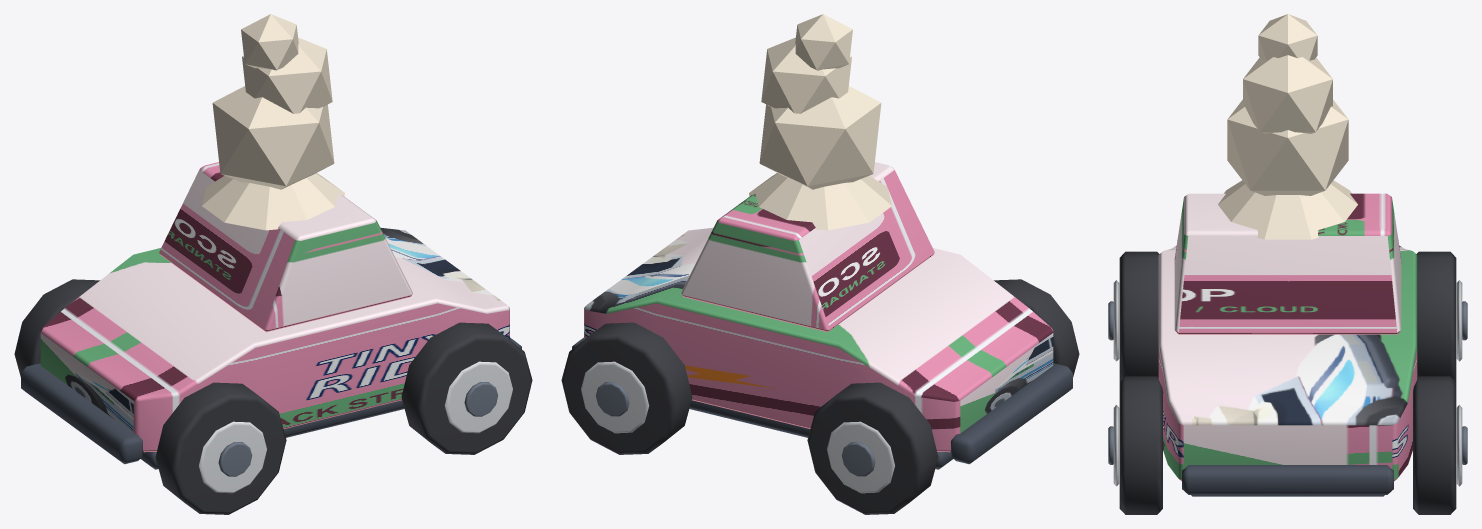
3 renders of one model, left to right at view 1: azimuth 30°, elevation 25°; view 2: azimuth 150°, elevation 25°; view 3: azimuth 270°, elevation 25°, orthographic. The views are drawn at different scales.
Visible parts, largest first — view 1: SS-01_connected_shell, SS-01_cabin, Tire, Tire.002, ice cream swirl 1, ice cream base, front bumper, ice cream swirl 2, Rim.002, Rim, ice cream swirl 3, Tire.001 (+3 smaller); view 2: SS-01_connected_shell, SS-01_cabin, Tire.001, Tire.003, ice cream swirl 1, ice cream base, front bumper, ice cream swirl 2, Rim.003, Rim.001, ice cream swirl 3, Tire (+3 smaller); view 3: SS-01_connected_shell, SS-01_cabin, ice cream swirl 1, rear bumper, Tire.002, Tire.003, ice cream swirl 2, ice cream base, Tire, Tire.001, ice cream swirl 3, Rim.002 (+3 smaller).
Part boxes in pixels (x1=…): SS-01_connected_shell: x1=40, y1=227, x2=509, y2=452; SS-01_cabin: x1=159, y1=162, x2=412, y2=332; Tire: x1=155, y1=382, x2=286, y2=514; Tire.002: x1=401, y1=322, x2=532, y2=454; ice cream swirl 1: x1=212, y1=86, x2=334, y2=189; ice cream base: x1=202, y1=173, x2=344, y2=230; front bumper: x1=21, y1=363, x2=143, y2=464; ice cream swirl 2: x1=242, y1=37, x2=332, y2=113; Rim.002: x1=444, y1=361, x2=512, y2=433; Rim: x1=199, y1=421, x2=266, y2=493; ice cream swirl 3: x1=241, y1=14, x2=298, y2=70; Tire.001: x1=14, y1=279, x2=99, y2=376; SS-01_connected_shell: x1=584, y1=227, x2=1053, y2=452; SS-01_cabin: x1=681, y1=162, x2=934, y2=332; Tire.001: x1=807, y1=382, x2=938, y2=514; Tire.003: x1=561, y1=322, x2=692, y2=454; ice cream swirl 1: x1=759, y1=86, x2=881, y2=189; ice cream base: x1=749, y1=173, x2=891, y2=230; front bumper: x1=950, y1=363, x2=1072, y2=464; ice cream swirl 2: x1=761, y1=37, x2=851, y2=113; Rim.003: x1=581, y1=361, x2=649, y2=433; Rim.001: x1=827, y1=421, x2=894, y2=493; ice cream swirl 3: x1=795, y1=14, x2=852, y2=70; Tire: x1=994, y1=279, x2=1079, y2=376; SS-01_connected_shell: x1=1158, y1=246, x2=1417, y2=481; SS-01_cabin: x1=1174, y1=193, x2=1401, y2=334; ice cream swirl 1: x1=1227, y1=99, x2=1348, y2=195; rear bumper: x1=1182, y1=465, x2=1393, y2=494; Tire.002: x1=1119, y1=376, x2=1162, y2=514; Tire.003: x1=1413, y1=376, x2=1456, y2=514; ice cream swirl 2: x1=1243, y1=55, x2=1332, y2=133; ice cream base: x1=1218, y1=180, x2=1357, y2=239; Tire: x1=1119, y1=251, x2=1159, y2=381; Tire.001: x1=1416, y1=251, x2=1456, y2=381; ice cream swirl 3: x1=1258, y1=14, x2=1317, y2=60; Rim.002: x1=1113, y1=405, x2=1119, y2=486.
Size of the model in its own units: 293 by 287 by 217.
